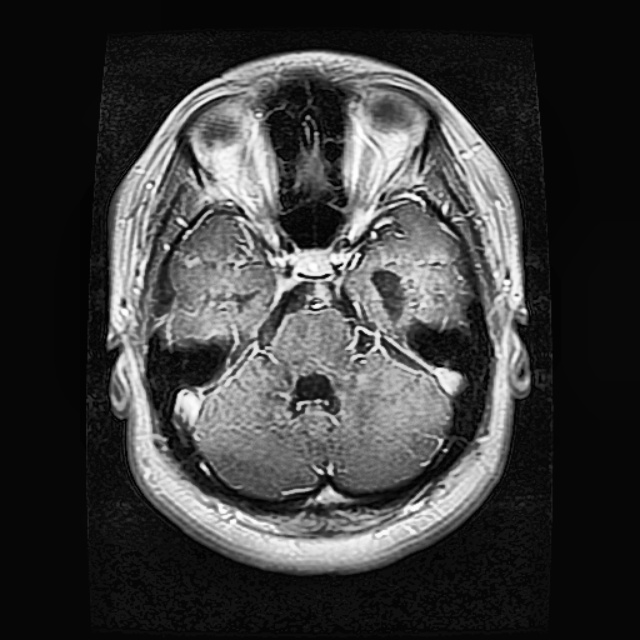Meningioma: (364, 250, 424, 325)
